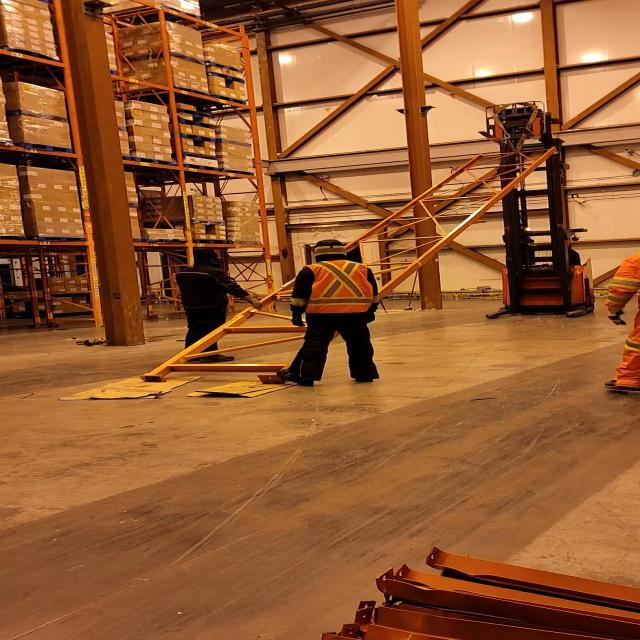forklift: (481, 161, 597, 322)
human: (278, 240, 391, 390), (170, 253, 264, 365), (593, 224, 640, 398), (534, 240, 596, 273)
objectofinterest: (135, 141, 570, 382), (56, 372, 202, 403), (182, 373, 308, 400)
